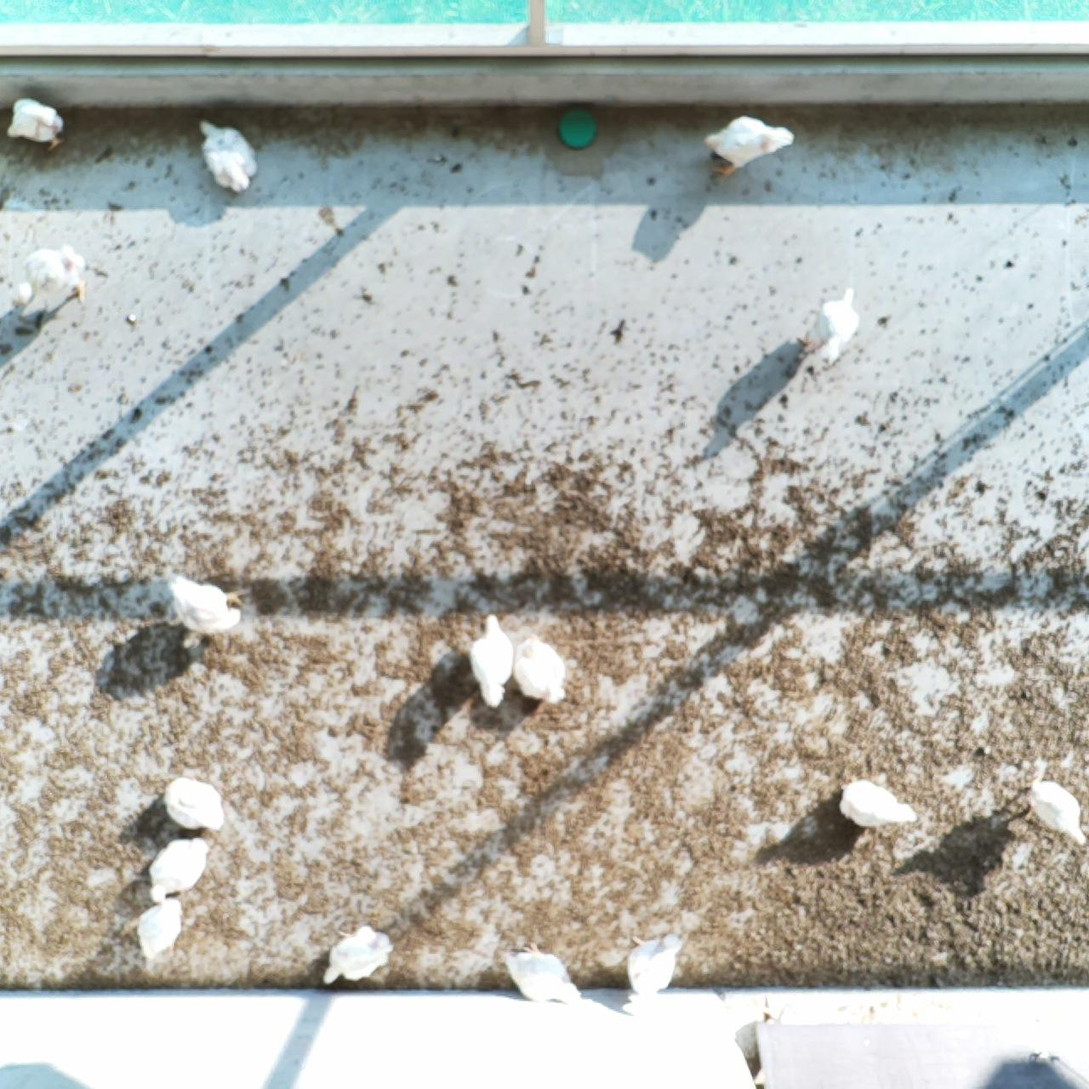chicken: (156, 573, 254, 647), (702, 111, 800, 184), (1019, 757, 1089, 849), (496, 939, 585, 1008), (794, 284, 864, 368), (10, 242, 92, 311), (194, 117, 261, 194), (319, 923, 398, 987), (835, 774, 919, 834), (466, 611, 517, 709), (119, 895, 184, 964), (148, 835, 210, 906), (510, 633, 570, 706), (161, 775, 231, 833), (626, 931, 686, 998), (5, 95, 69, 153)
